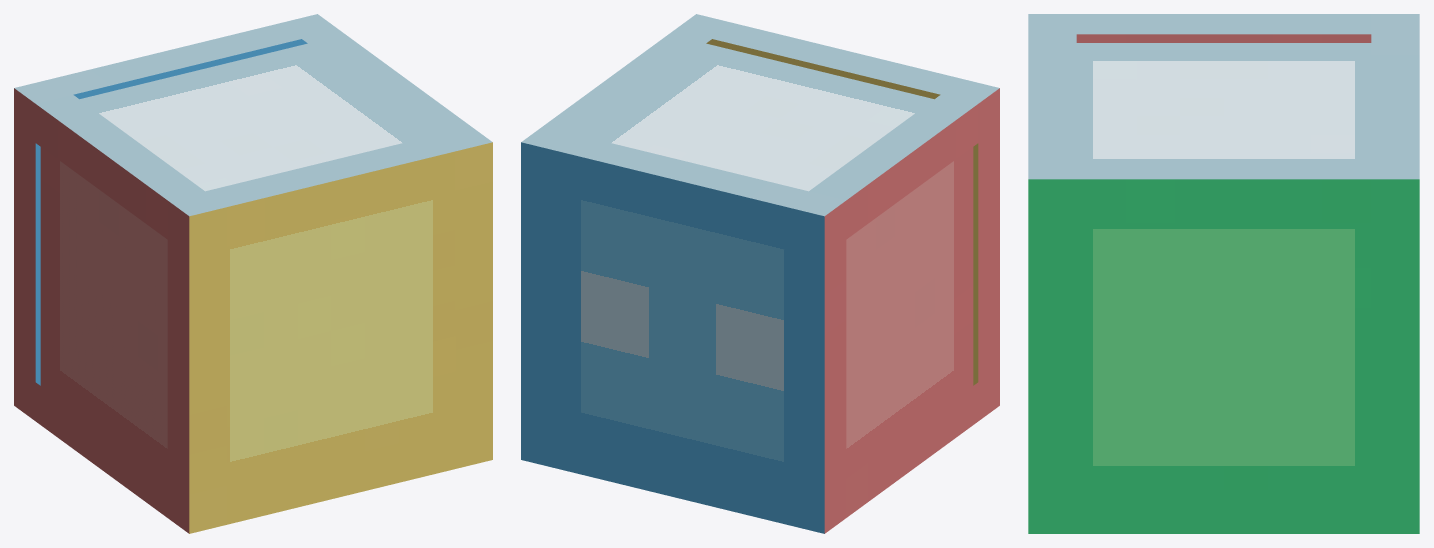
File: head.gltf
The picture shows the model from 3 angles, left to right: view 1: azimuth 30°, elevation 25°; view 2: azimuth 150°, elevation 25°; view 3: azimuth 270°, elevation 25°; orthographic projection. The views are drawn at different scales.
Parts seen in each view (by area): view 1: Head, Hat Layer; view 2: Head, Hat Layer; view 3: Head, Hat Layer.
Part boxes in pixels (x1,y1,x2,y2): Head: (40,43,455,485); Hat Layer: (14,14,492,533); Head: (558,43,973,485); Hat Layer: (521,14,999,533); Head: (1076,43,1371,490); Hat Layer: (1028,14,1419,533).
Bounding box in the file's own units: 0.5625 × 0.5625 × 0.5625.
Materials: 1 (1 with a texture image).
